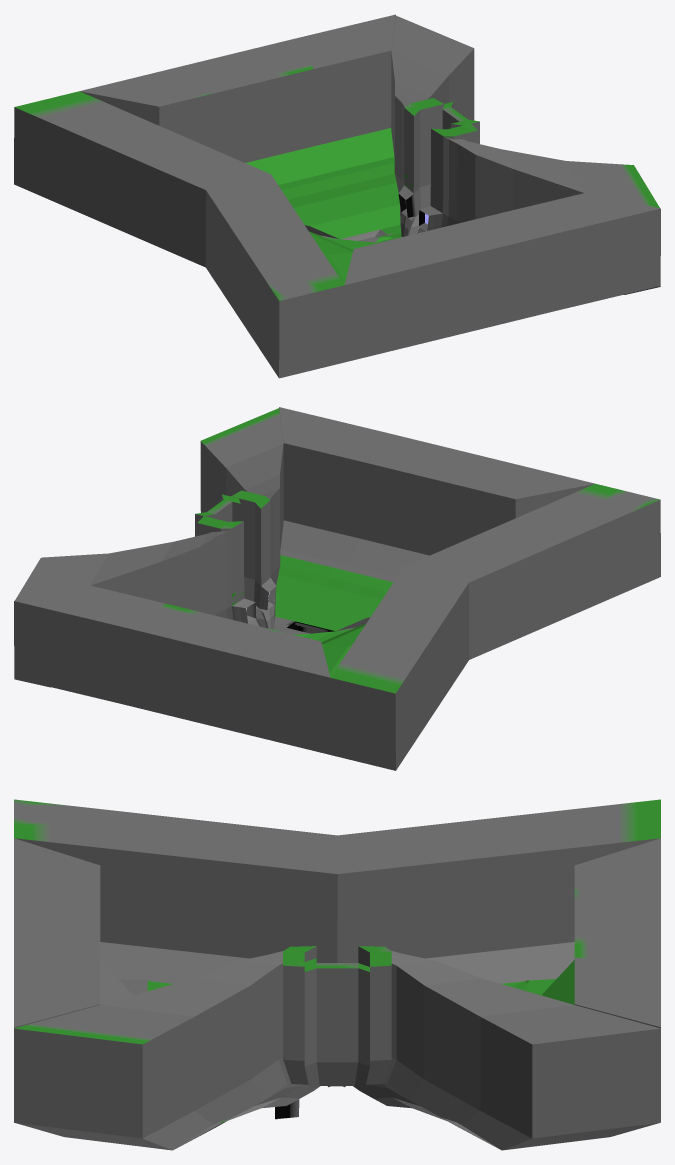
Rendered from suelo.gltf.
The picture shows the model from 3 angles, top to bottom: view 1: azimuth 30°, elevation 25°; view 2: azimuth 150°, elevation 25°; view 3: azimuth 270°, elevation 25°; orthographic projection. The views are drawn at different scales.
Visible parts, largest first — view 1: Cube; view 2: Cube; view 3: Cube.
Part boxes in pixels (<box>): Cube: <box>14,14,660,378</box>; Cube: <box>14,407,660,770</box>; Cube: <box>14,799,660,1150</box>.
Size of the model in its own units: 1022 by 361 by 1152.
Materials: 2 (1 with a texture image).
